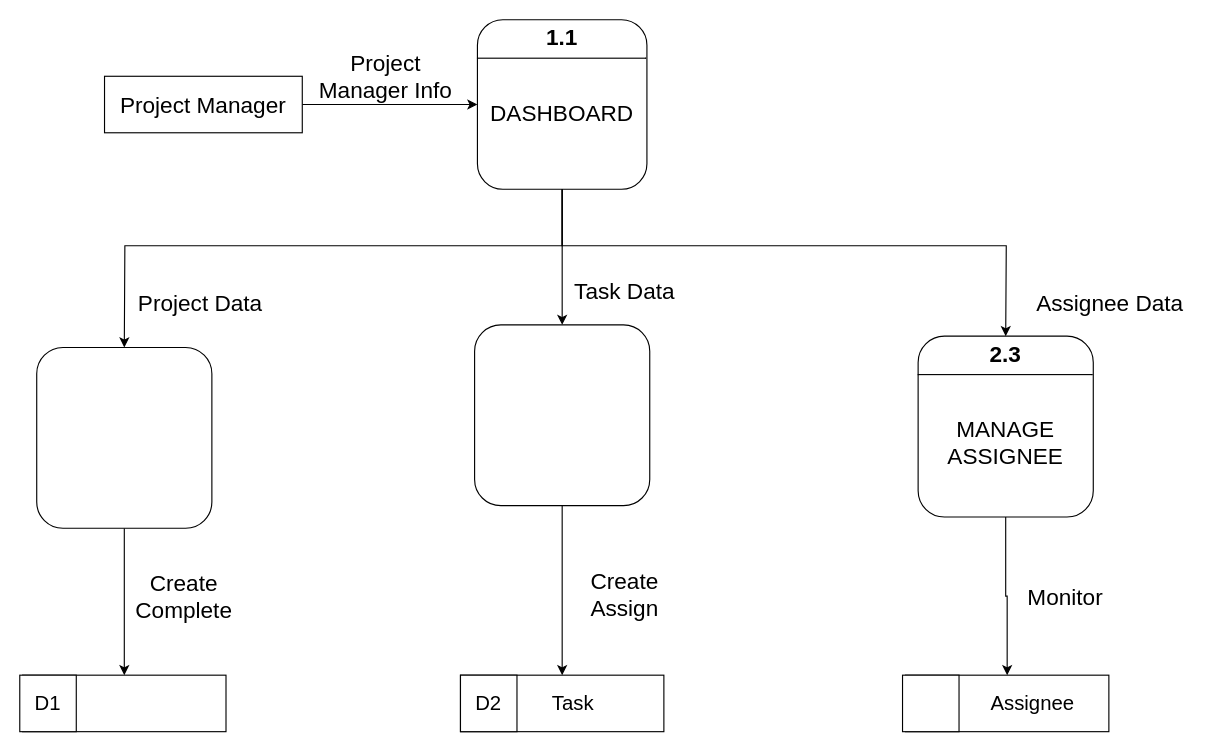
The diagram is 1232 pixels wide and 751 high, and some of its shapes have lost their labels. The shapes that lost their labels are listed below. From the top down, each one's box as (x1, y1, x2, y2) in pixels, then its label:
(473, 324, 650, 506): 2.2 MANAGE TASK
(36, 346, 212, 528): 2.1 MANAGE PROJECT
(21, 674, 226, 732): Project
(901, 674, 959, 732): D3
